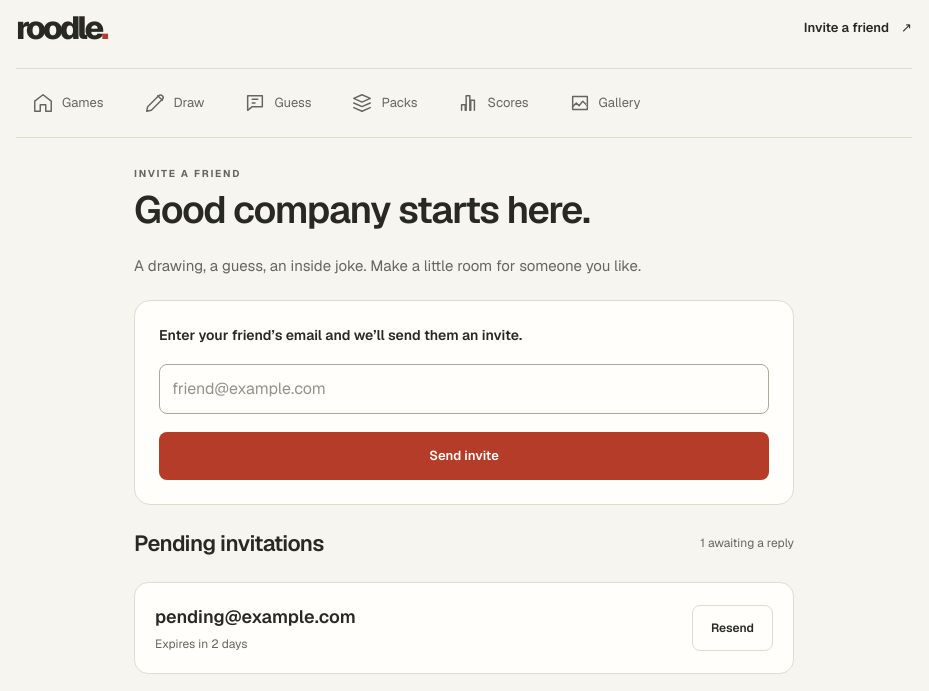
Scenario: friend invitations › resends a pending invite from the list and refreshes it
Click the button "Resend".
click(732, 628)  # box [692,604,773,650]
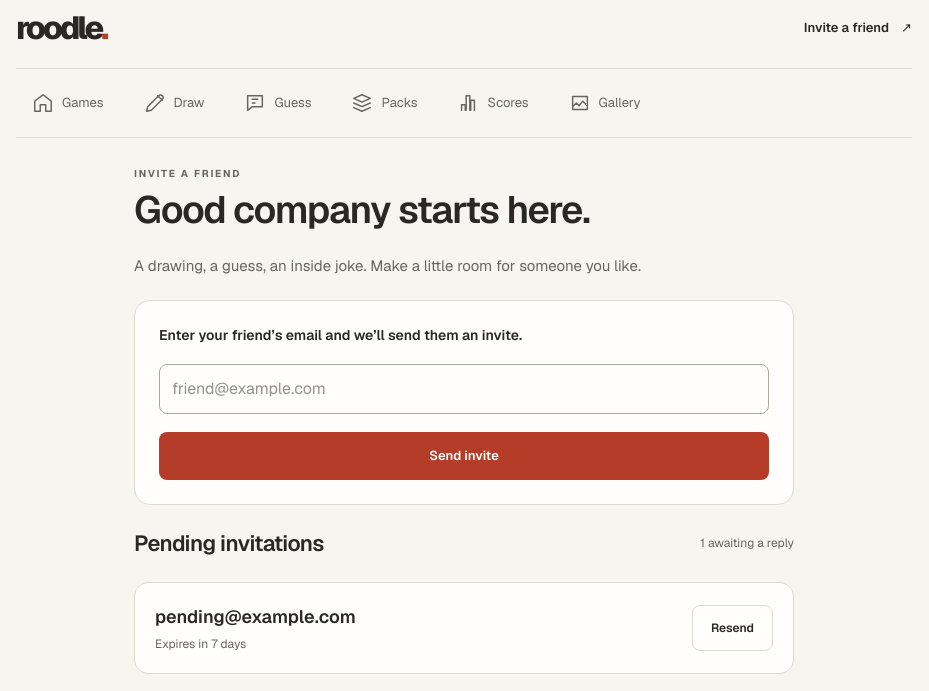
Result: the text "Expires in 7 days" is shown at [155,636,246,652]
